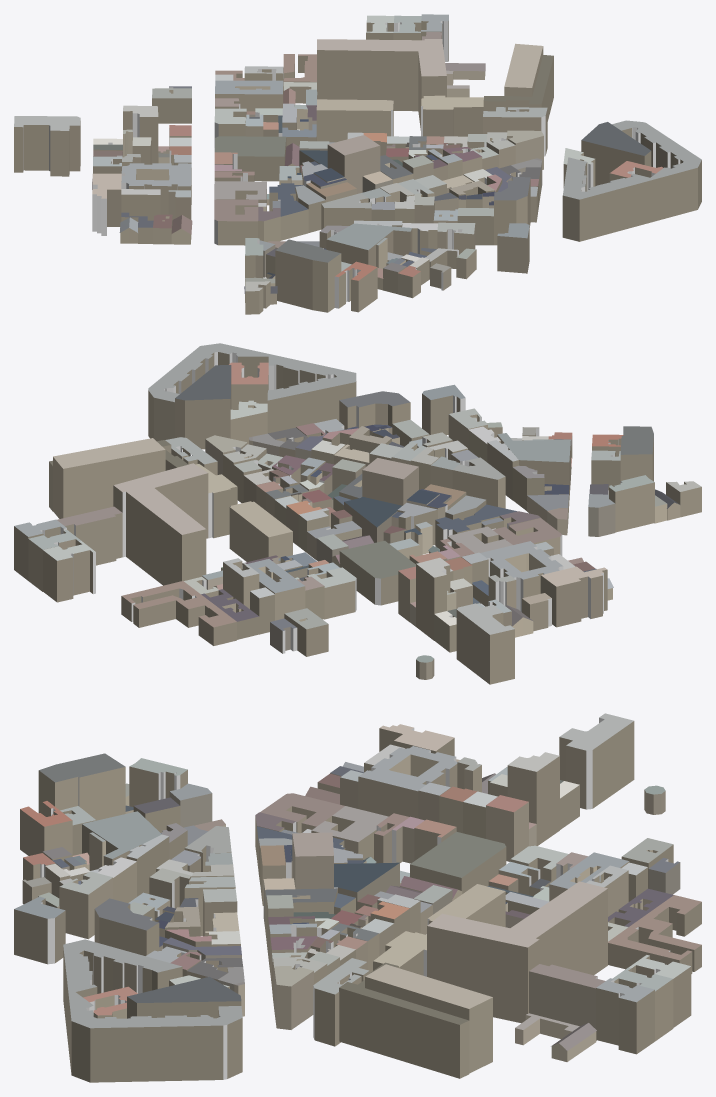
The picture shows the model from 3 angles, top to bottom: view 1: azimuth 30°, elevation 25°; view 2: azimuth 150°, elevation 25°; view 3: azimuth 270°, elevation 25°; orthographic projection. The views are drawn at different scales.
Parts seen in each view (by area): view 1: tuile; view 2: tuile; view 3: tuile.
Boxes of the visible parts, x1=… form: tuile: x1=14, y1=14, x2=701, y2=314; tuile: x1=14, y1=343, x2=701, y2=684; tuile: x1=14, y1=713, x2=701, y2=1082.
Bounding box in the file's own units: 289 × 35.8 × 273.
